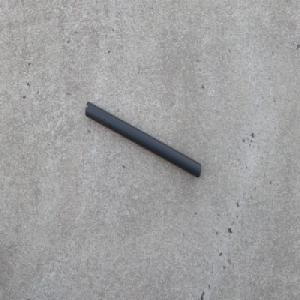LuggagePart: (84, 101, 202, 179)
